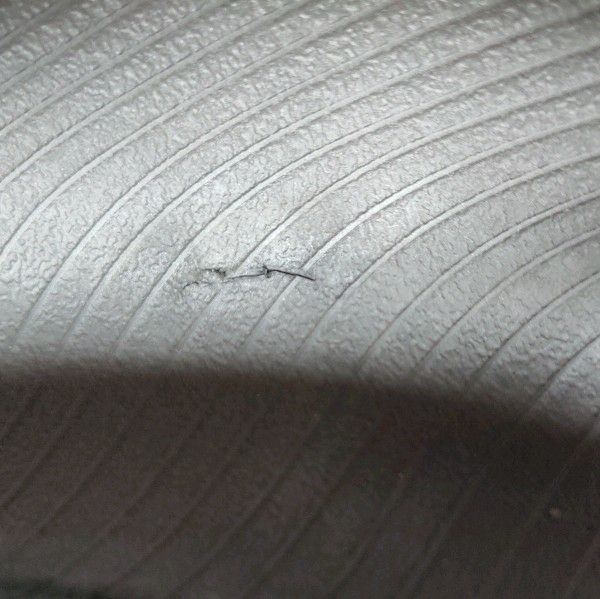CBU: (163, 249, 337, 308)
